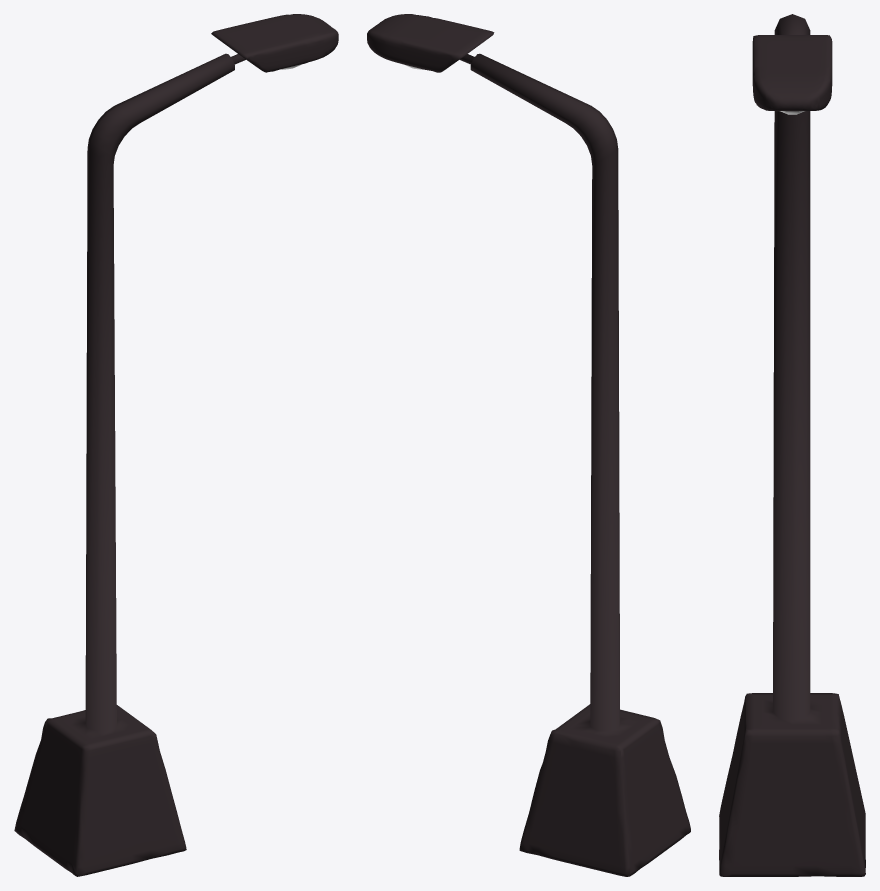
The model's file is Lampe.fbx.
3 renders of one model, left to right at view 1: azimuth 30°, elevation 25°; view 2: azimuth 150°, elevation 25°; view 3: azimuth 270°, elevation 25°, orthographic. The views are drawn at different scales.
Parts seen in each view (by area): view 1: Sphere; view 2: Sphere; view 3: Sphere.
Boxes of the visible parts, x1,y1,x2,y2 form: Sphere: (14,14,338,876); Sphere: (367,14,690,876); Sphere: (719,14,865,876).
Bounding box in the file's own units: 552 × 1409 × 212.
